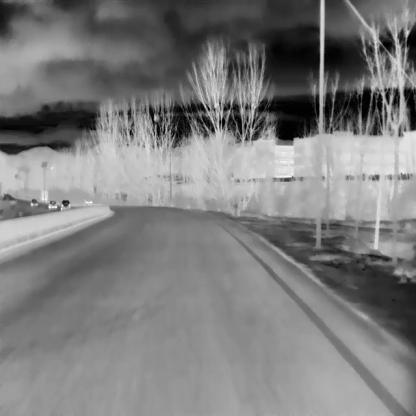car: (60, 199, 70, 210), (48, 199, 56, 208), (29, 197, 37, 205)
